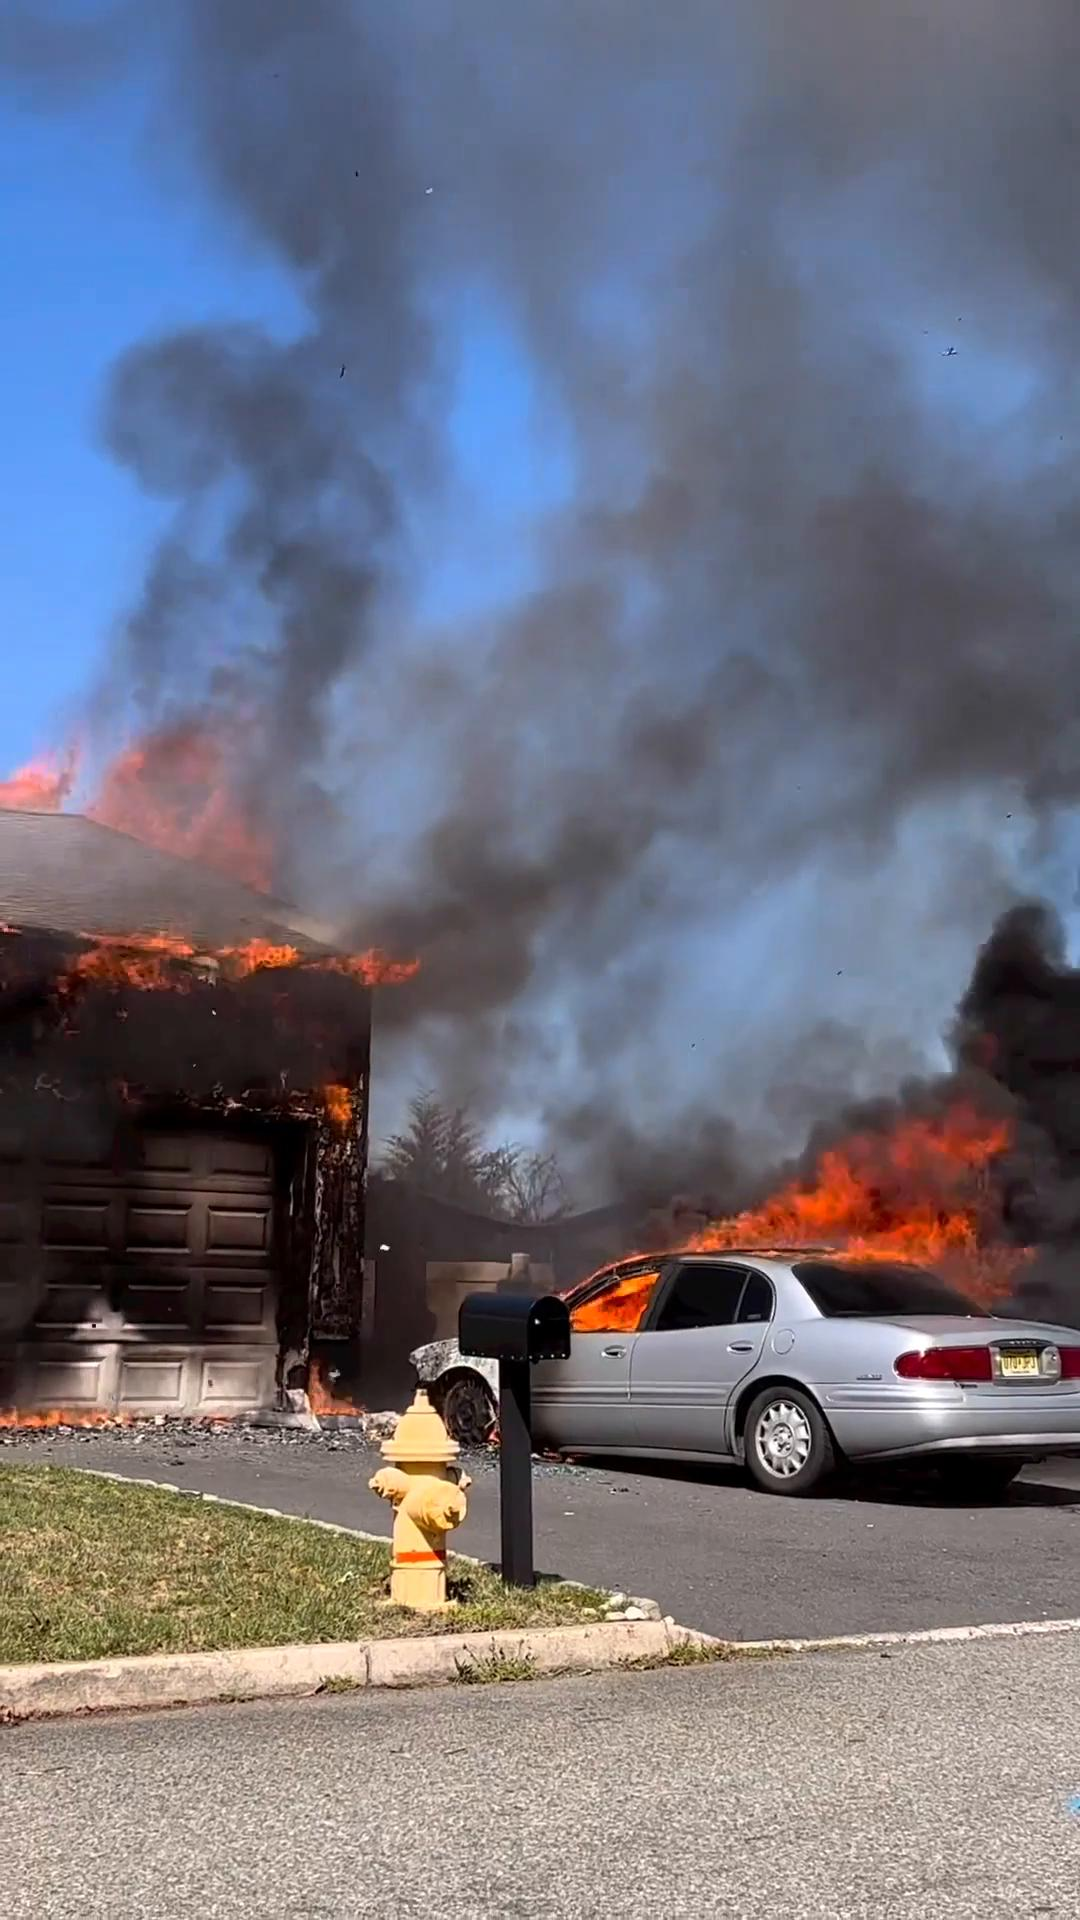smoke: (260, 17, 1025, 818)
